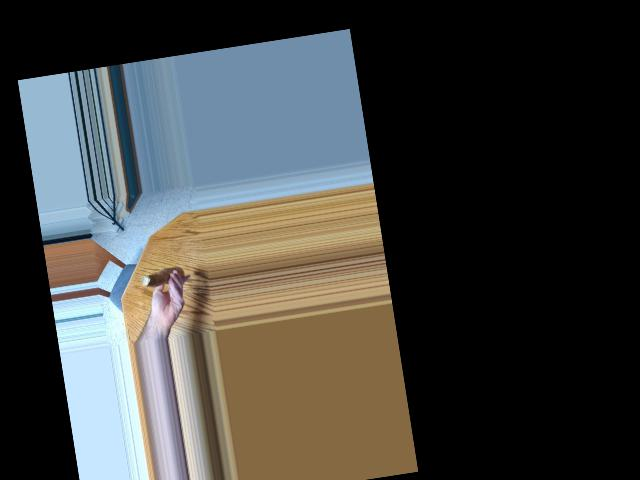sweet_potato: (141, 264, 180, 293)
